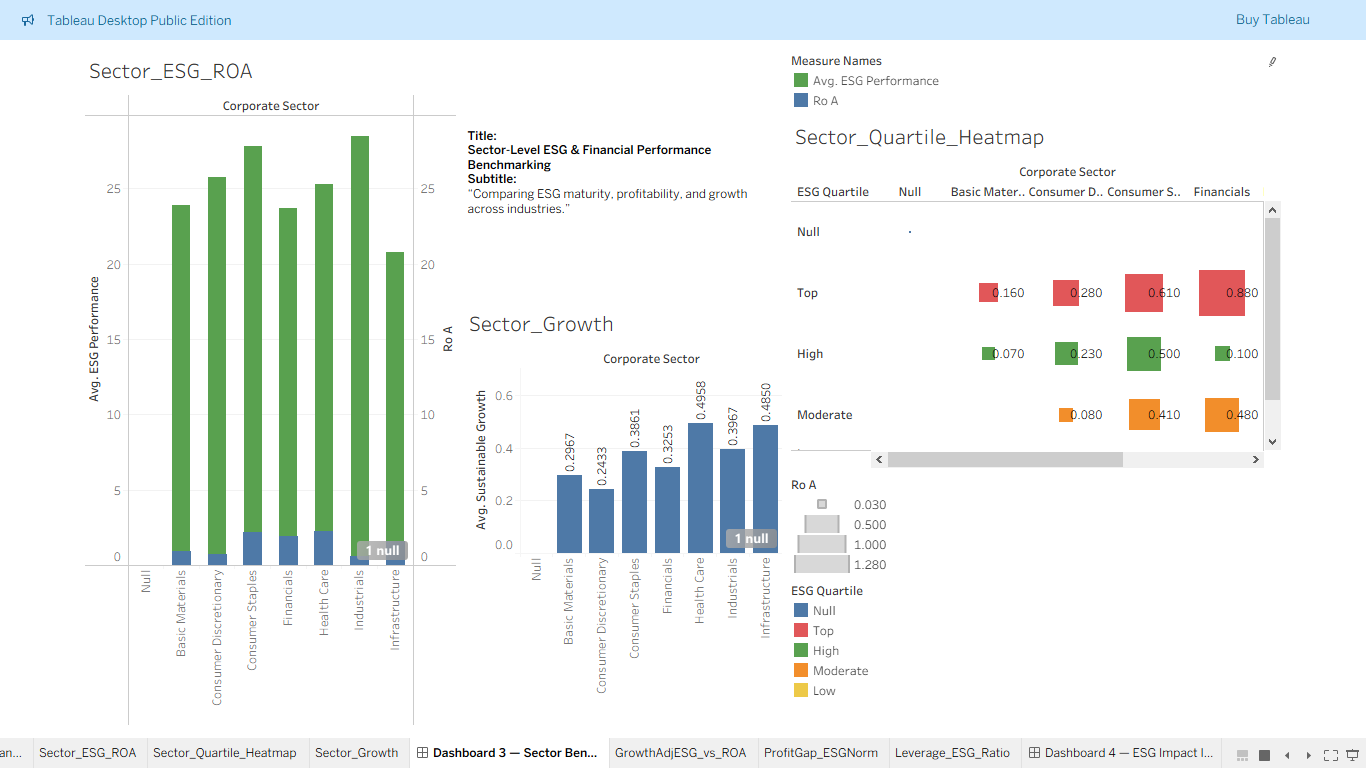

This screenshot's page, from the dashboard's own definition file:
{"tool":"tableau","page":{"name":"Dashboard 3 — Sector Benchmarking","canvas":[1000,1000],"units":"permille","ordinal":2},"visuals":[{"type":"worksheet","title":"Sector_ESG_ROA","mark":"Bar","rows":["ESG Performance","RoA"],"cols":["Corporate Sector"],"box":[7,14.3,295.7,971.4]},{"type":"text","box":[302.8,14.3,253,360.7]},{"type":"legend","title":"Sector_ESG_ROA","param":"[federated.0hu7oe619kb1w21domjt50td3igt].[:Measure Names]","box":[555.8,14.3,437.2,110.7]},{"type":"worksheet","title":"Sector_Quartile_Heatmap","mark":"Automatic","rows":["ESG_Quartile"],"cols":["Corporate Sector"],"box":[555.8,125,437.2,639.3]},{"type":"worksheet","title":"Sector_Growth","mark":"Automatic","rows":["Sustainable Growth"],"cols":["Corporate Sector"],"box":[302.8,375,253,610.7]},{"type":"legend","title":"Sector_Quartile_Heatmap","param":"[federated.0hu7oe619kb1w21domjt50td3igt].[sum:RoA:qk]","box":[555.8,764.3,437.2,110.7]},{"type":"legend","title":"Sector_Quartile_Heatmap","param":"[federated.0hu7oe619kb1w21domjt50td3igt].[none:ESG_Quartile:ok]","box":[555.8,875,437.2,110.7]}]}

Visuals, with their boxes on the dashboard's canvas, which has no fixed pixel size, in thousandths of its width and height (x1, y1, x2, y2). These are canvas units, not pixel positions in the 1366x768 screenshot, which may show the page scaled, cropped or inside an application window:
"Sector_ESG_ROA" worksheet (Bar marks): l=7, t=14, r=303, b=986
text: l=303, t=14, r=556, b=375
"Sector_ESG_ROA" legend: l=556, t=14, r=993, b=125
"Sector_Quartile_Heatmap" worksheet: l=556, t=125, r=993, b=764
"Sector_Growth" worksheet: l=303, t=375, r=556, b=986
"Sector_Quartile_Heatmap" legend: l=556, t=764, r=993, b=875
"Sector_Quartile_Heatmap" legend: l=556, t=875, r=993, b=986
